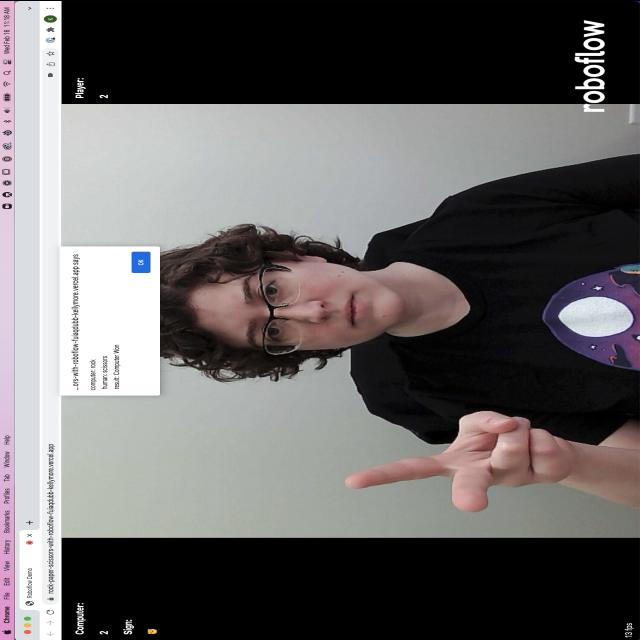Scissors: (333, 404, 588, 516)
